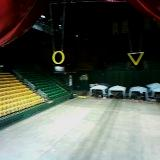Yellow_Circle_GShape: (52, 51, 64, 64)
Yellow_Triangle_Gshape: (127, 51, 144, 65)
